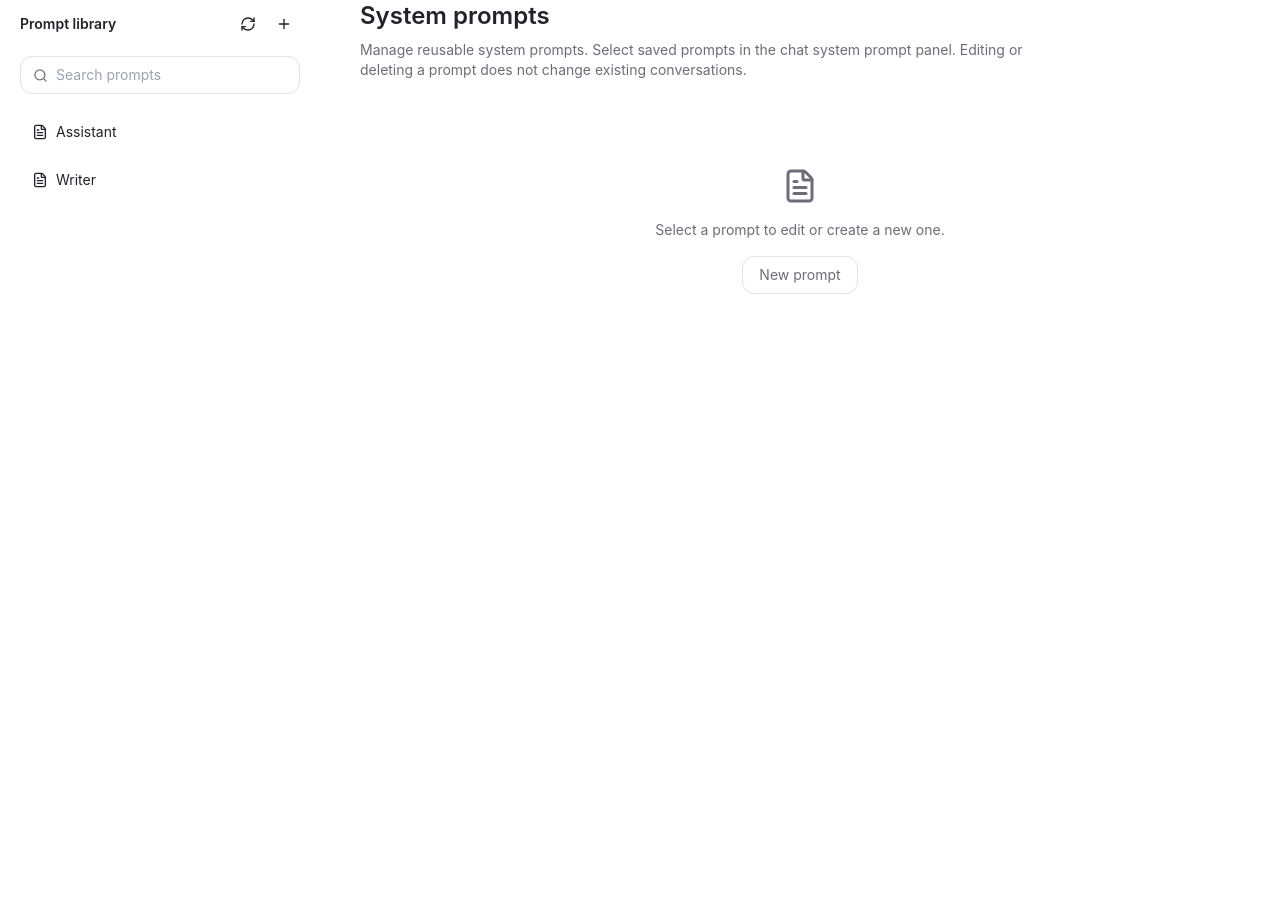
Test: system prompt management › keeps failed saves and deletes visible for retry
Step 1. Click the button "Assistant" → (86, 132), box [20,110,300,154]
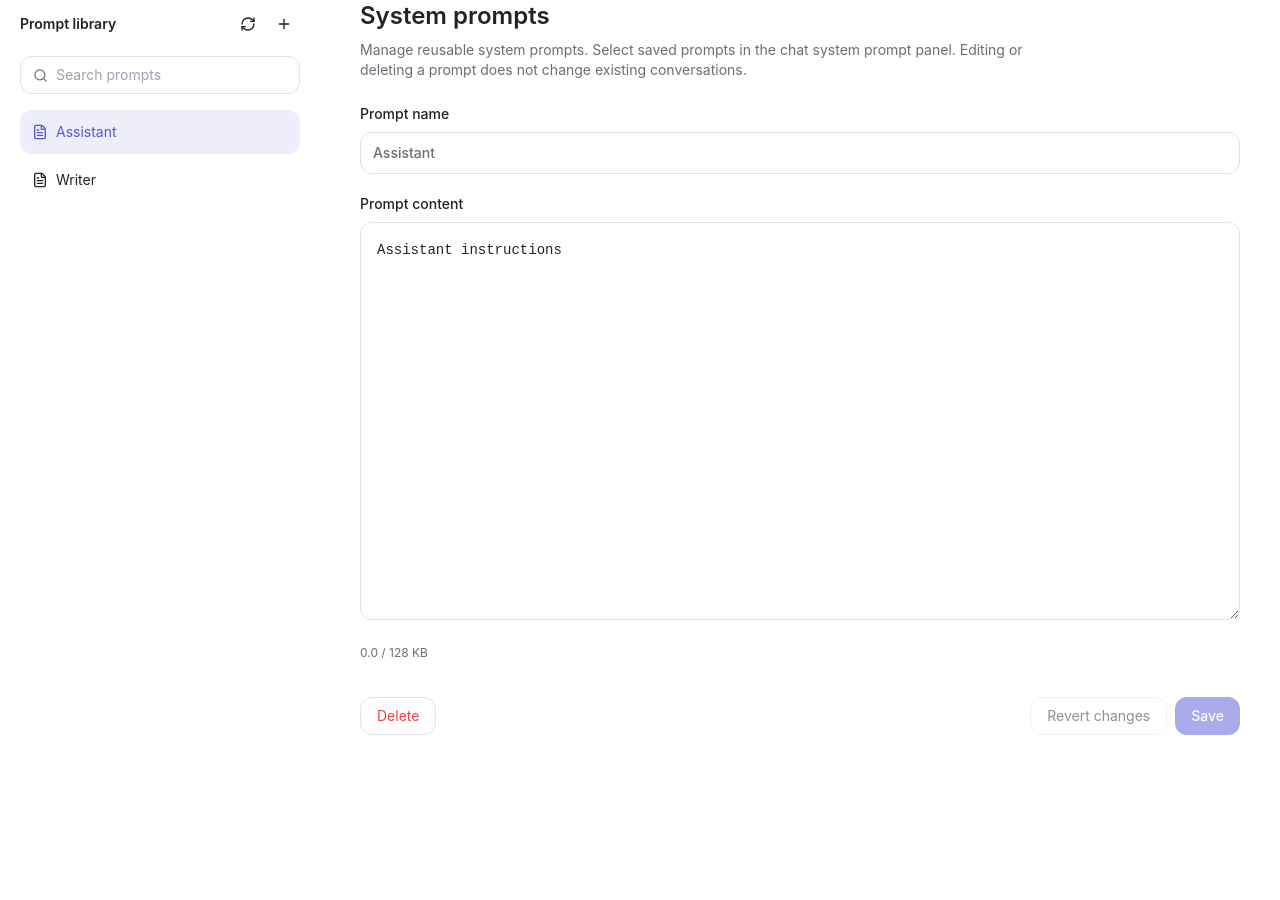
Step 2. Type " changed" into the text box labelled "Prompt content" → (800, 421), box [360,222,1240,620]
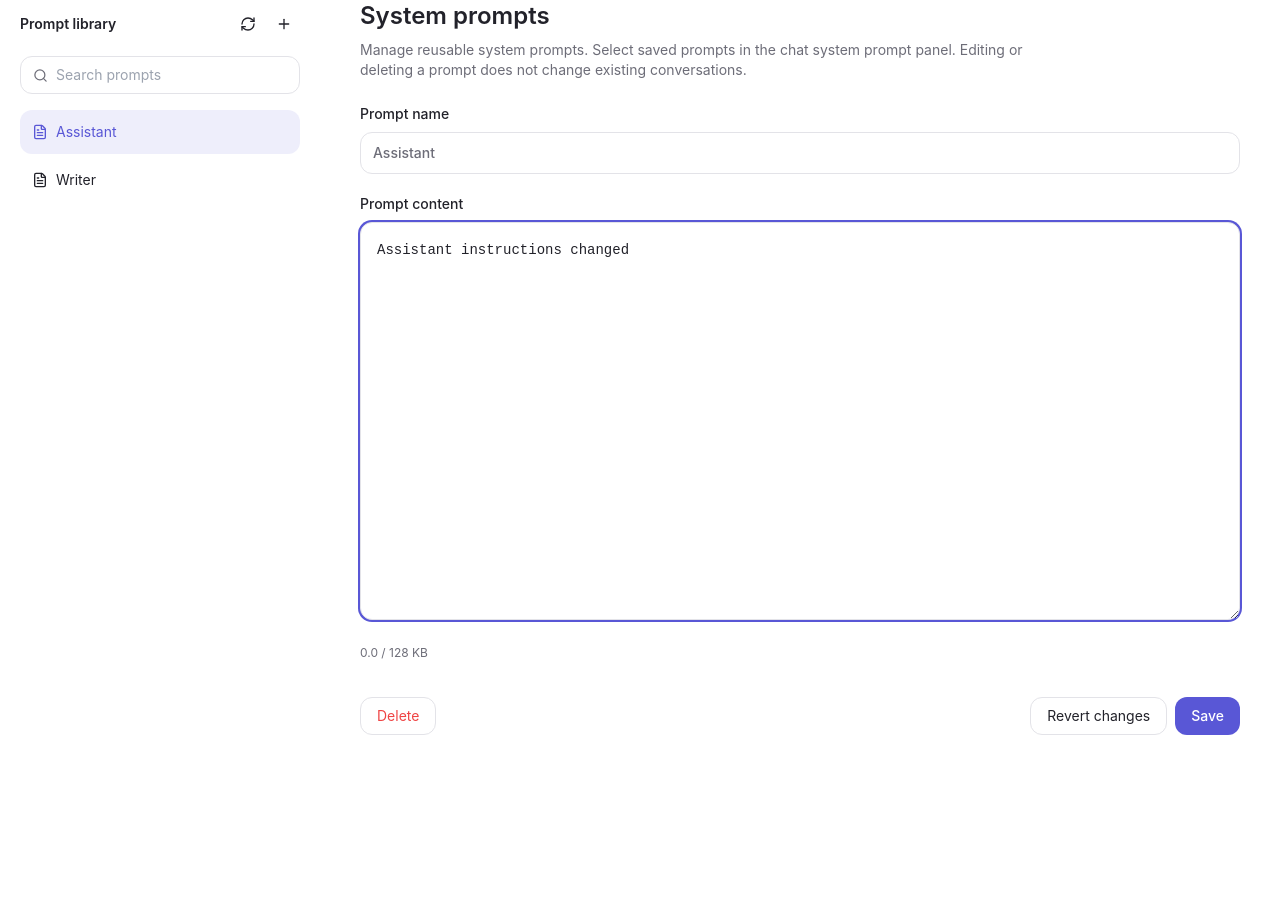
Step 3. Click the button "Save" → (1208, 716), box [1175,697,1240,735]
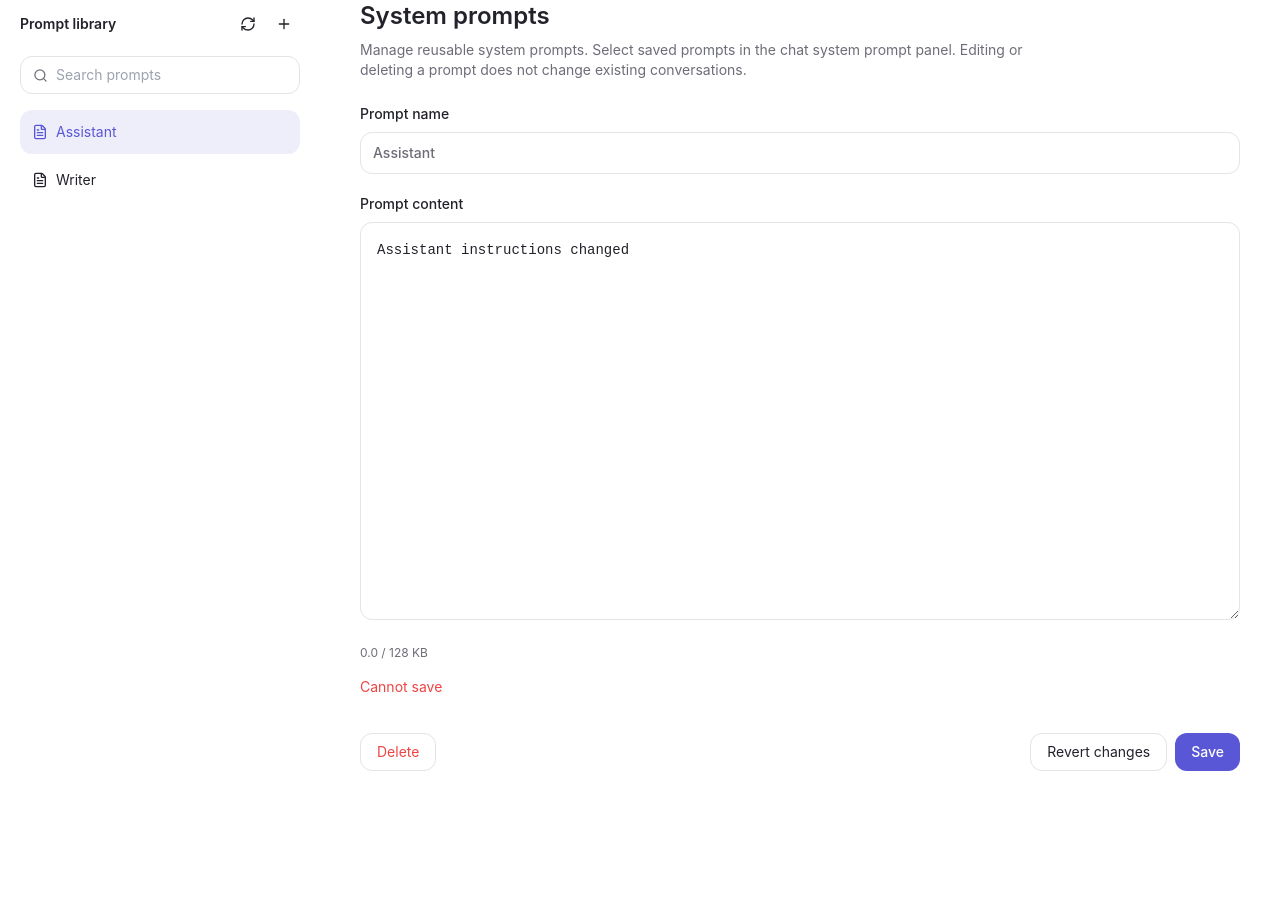
Result: the text box showing "Assistant instructions changed" is shown at [360,222,1240,620]
Result: the message reads "Cannot save" at [360,678,442,695]
Step 4. Click the button "Delete" → (398, 752), box [360,733,436,771]
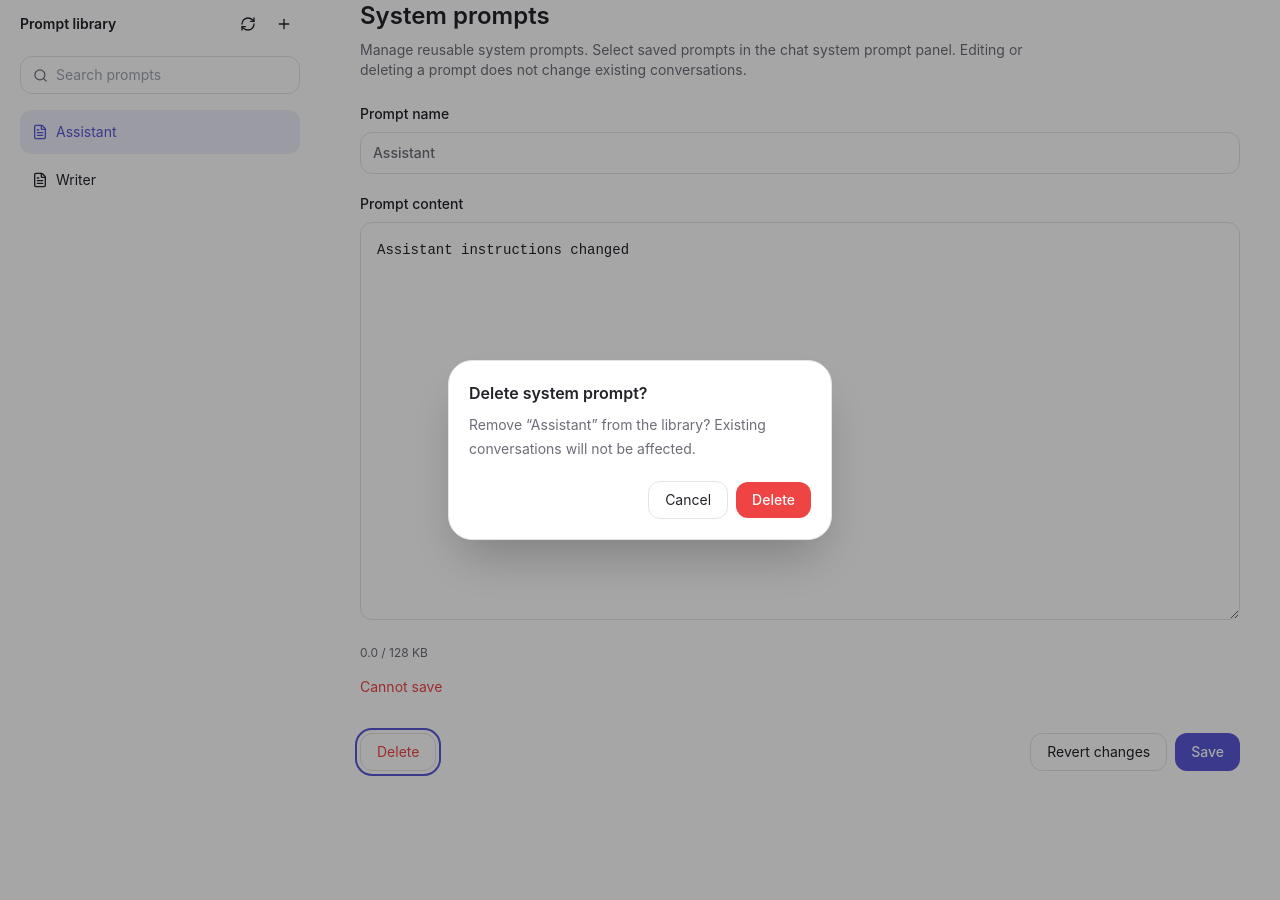
Step 5. Click the button "Delete" → (774, 500), box [736,482,811,518]
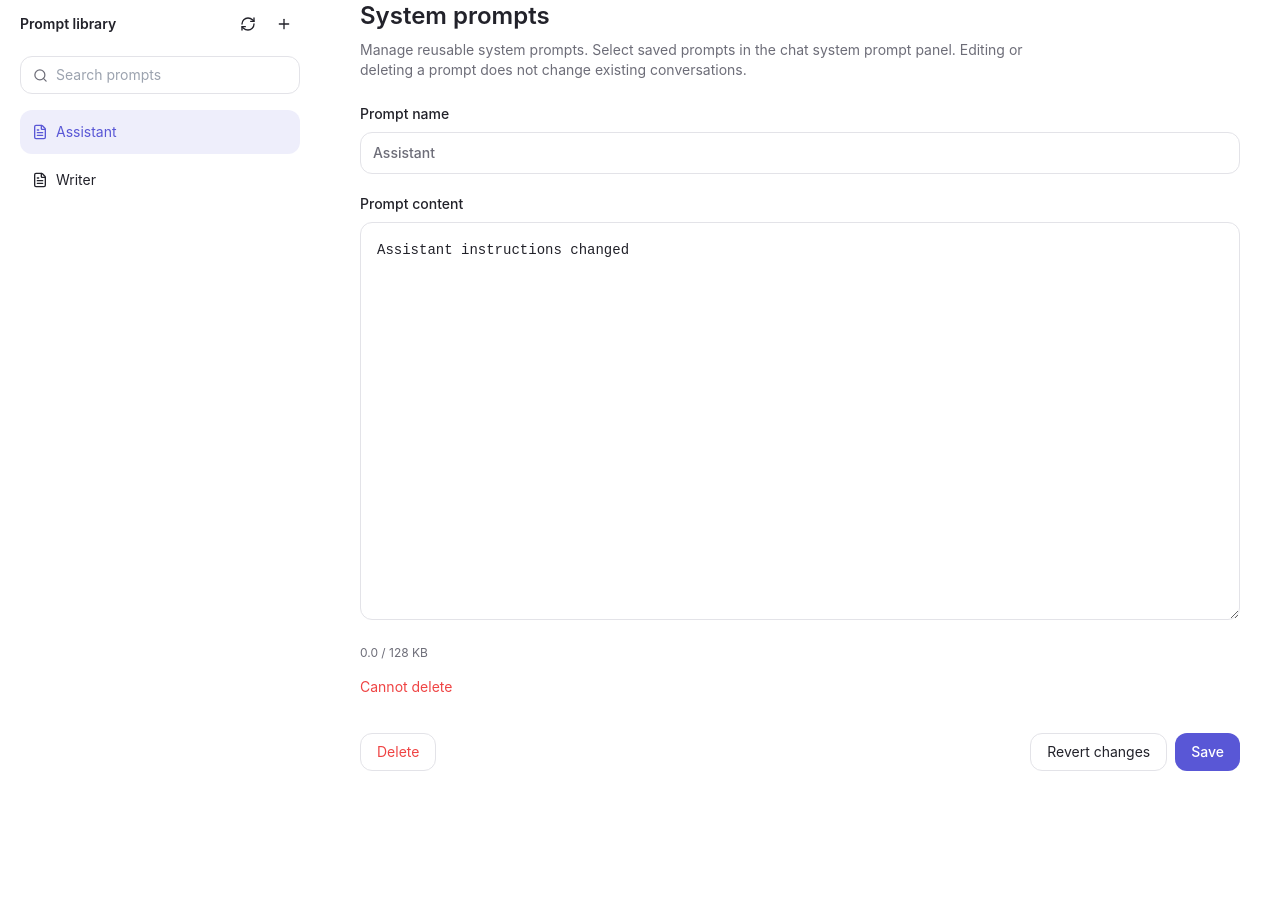
Expected: the button "Assistant" is shown, [20,110,300,154]
Result: the message reads "Cannot delete" at [360,678,452,695]
